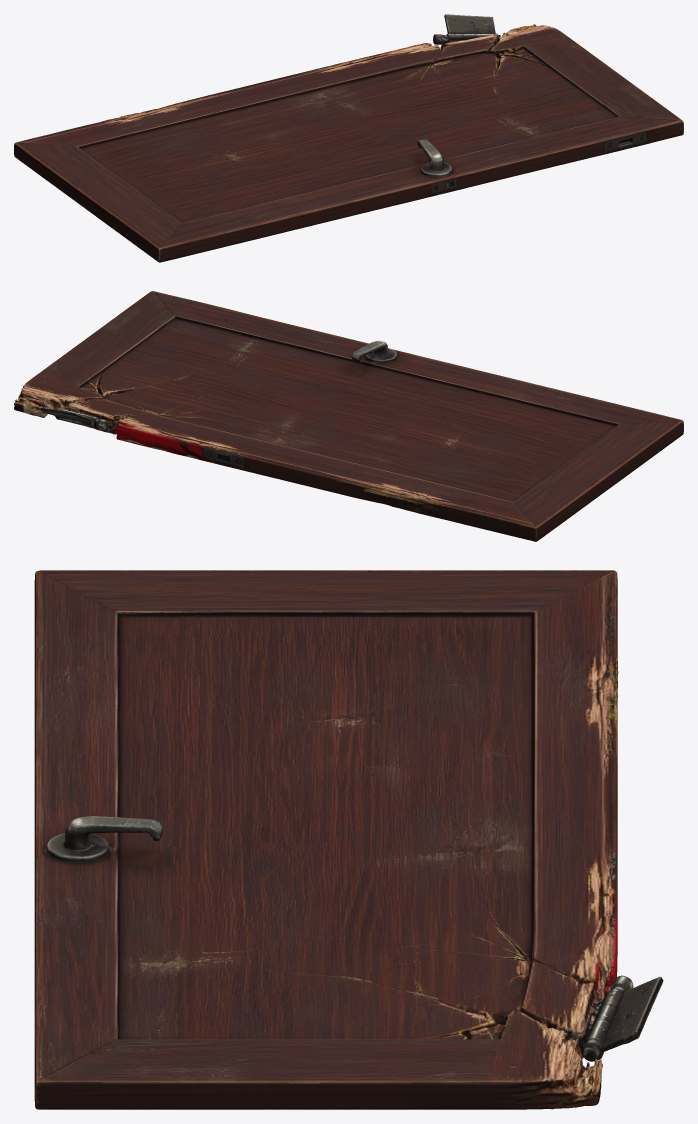
The model's file is broken_door.glb.
3 views of the same model, one above another, from view 1: azimuth 30°, elevation 25°; view 2: azimuth 150°, elevation 25°; view 3: azimuth 270°, elevation 25° (orthographic). The views are drawn at different scales.
Visible parts, largest first — view 1: mesh_node; view 2: mesh_node; view 3: mesh_node.
Part boxes in pixels (x1=…): mesh_node: x1=14, y1=14, x2=683, y2=262; mesh_node: x1=14, y1=291, x2=683, y2=541; mesh_node: x1=34, y1=570, x2=663, y2=1109.
Bounding box in the file's own units: 1.9 × 0.108 × 0.9859.
Materials: 1 (1 with a texture image).
